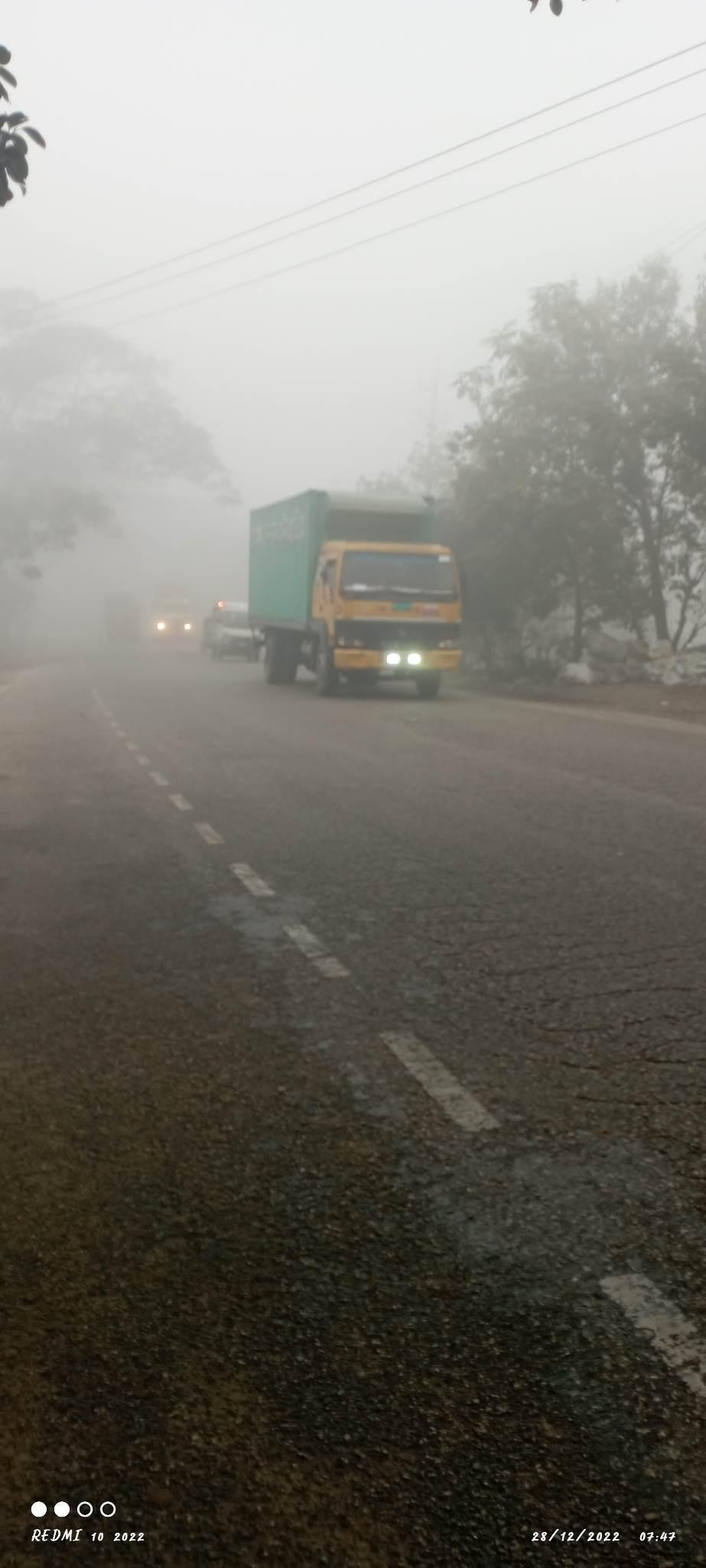Truck: (240, 471, 486, 724)
